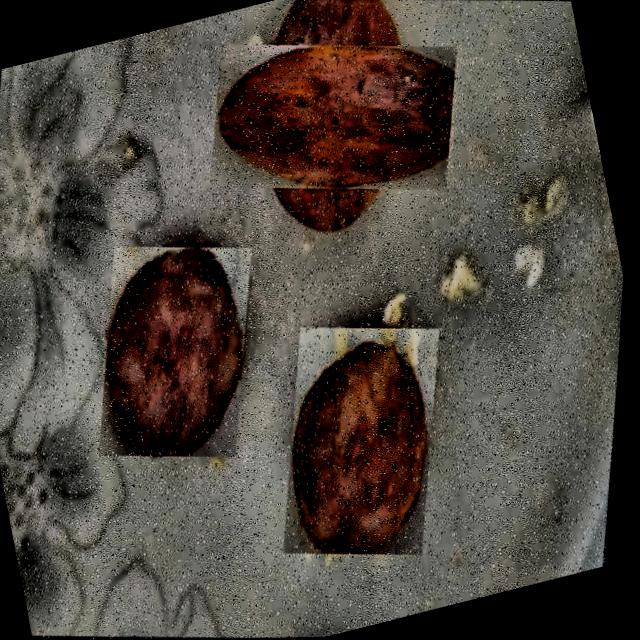Food: (233, 293, 497, 589), (186, 0, 480, 259), (51, 213, 304, 491)
